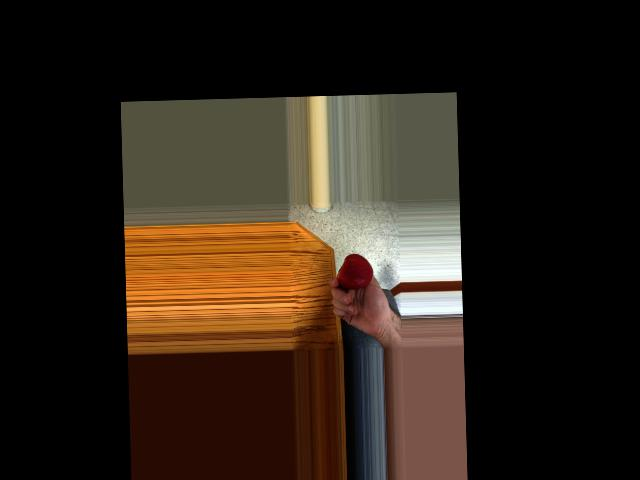apple: (336, 252, 374, 291)
